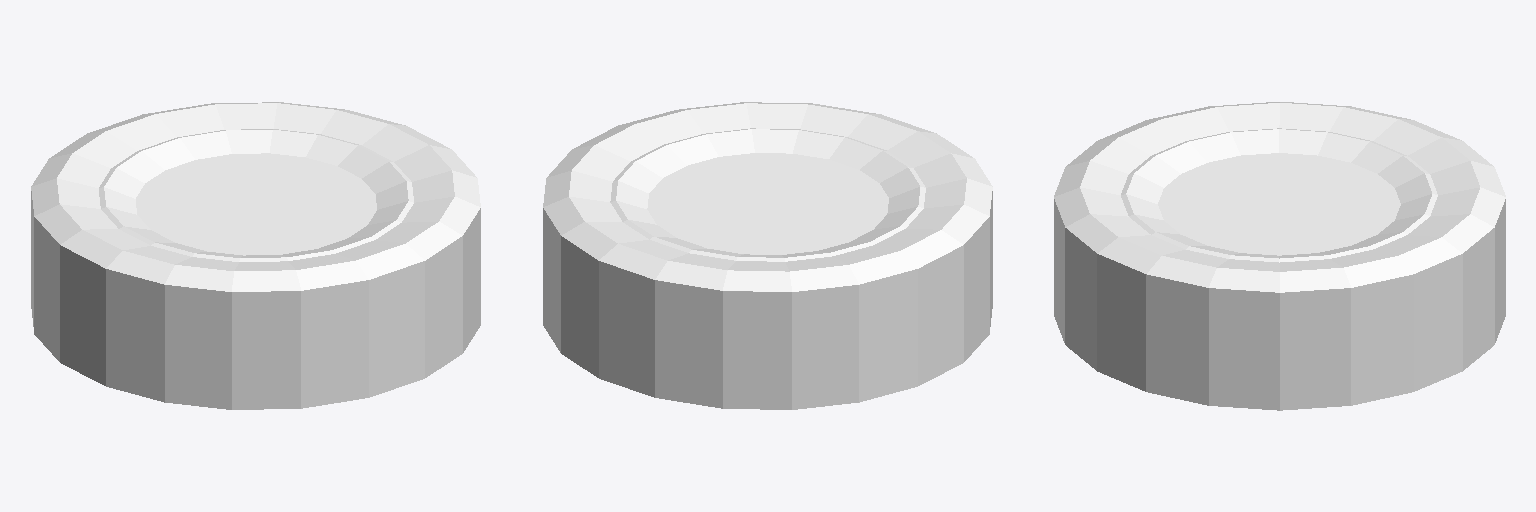
Rendered from blurred_tire.obj.
3 views of the same model, side by side, from view 1: azimuth 30°, elevation 25°; view 2: azimuth 150°, elevation 25°; view 3: azimuth 270°, elevation 25° (orthographic).
Visible parts, largest first — view 1: Tread, rim, tread_side; view 2: Tread, rim, tread_side; view 3: Tread, rim, tread_side.
Part boxes in pixels (x1,y1,x2,y2): Tread: (31,102,480,409); rim: (99,129,413,261); tread_side: (57,103,454,270); Tread: (543,102,992,409); rim: (610,128,925,261); tread_side: (569,103,966,271); Tread: (1054,102,1505,410); rim: (1121,128,1437,262); tread_side: (1080,103,1479,271).
Size of the model in its own units: 0.582 by 0.1948 by 0.582.